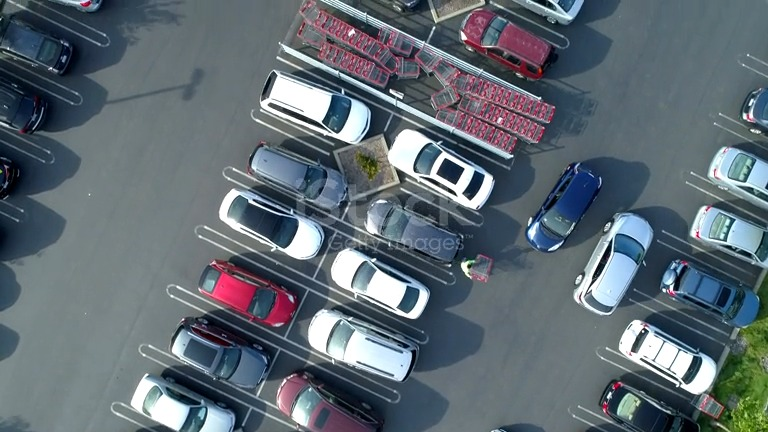car: (309, 308, 415, 385), (575, 209, 651, 315), (390, 131, 503, 202), (370, 196, 468, 275), (529, 157, 603, 259), (327, 248, 431, 320), (462, 11, 572, 78), (219, 190, 323, 260), (662, 262, 761, 334), (267, 71, 367, 140), (252, 141, 350, 211), (169, 322, 269, 390), (278, 370, 383, 431), (199, 262, 293, 330), (622, 322, 716, 389), (130, 374, 235, 431), (599, 381, 699, 431), (689, 205, 767, 267), (707, 146, 767, 209)
